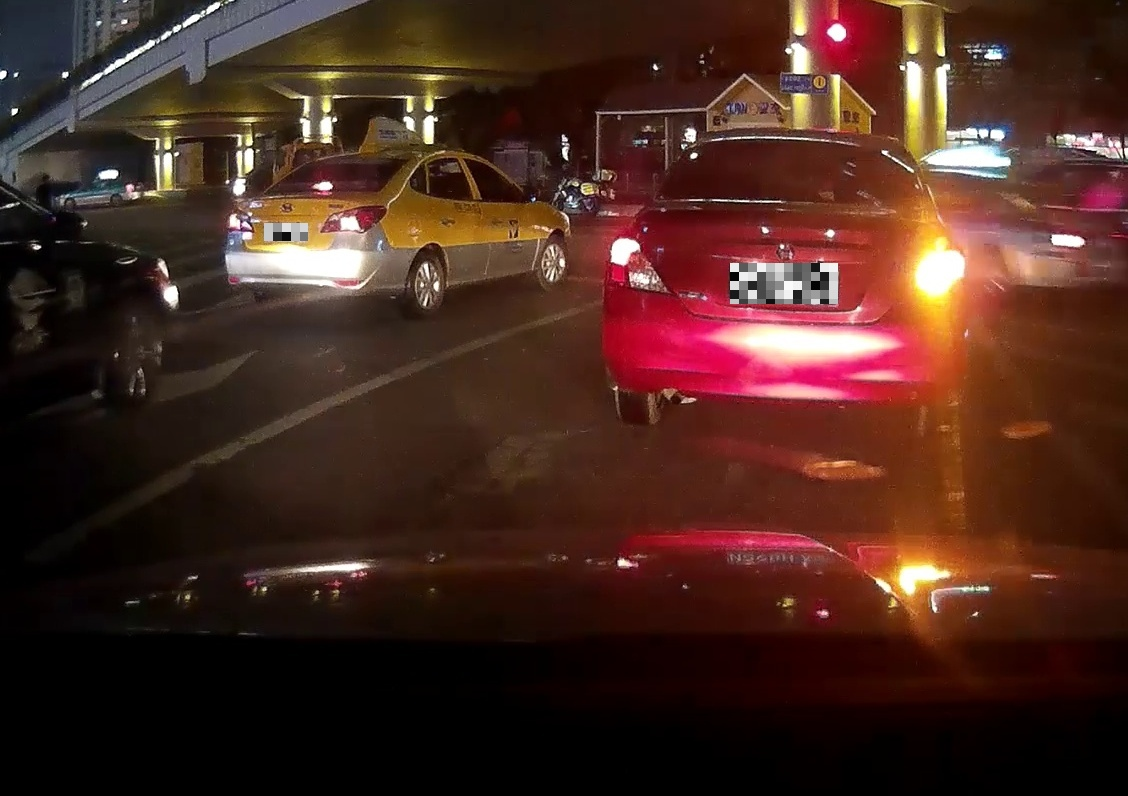L_light: (605, 233, 672, 295), (228, 207, 255, 234)
R_light: (896, 247, 966, 303), (319, 205, 387, 234)
T_light: (774, 141, 799, 150), (312, 182, 333, 191)
night-brake: (224, 147, 408, 315)
night-right: (595, 133, 970, 433)
plate_1: (264, 223, 308, 241)
plate_2: (730, 263, 838, 304)
